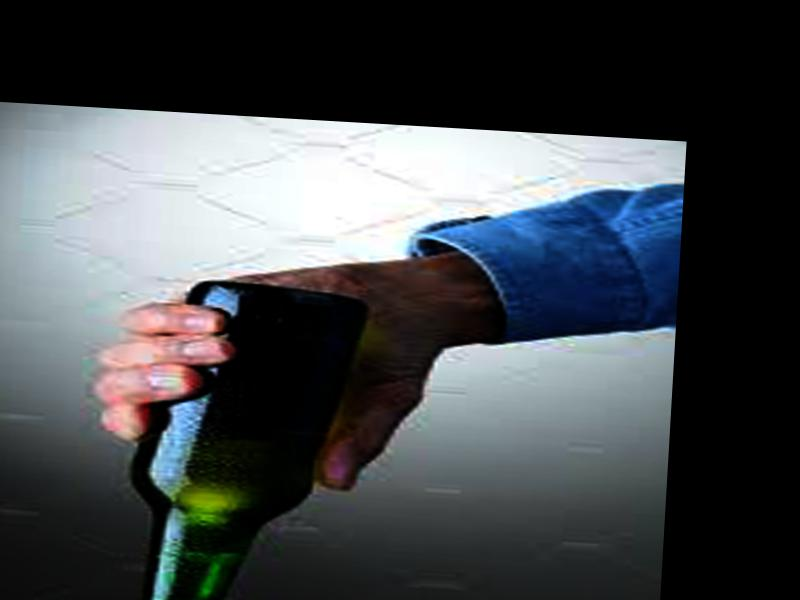Beer: (124, 275, 372, 600)
